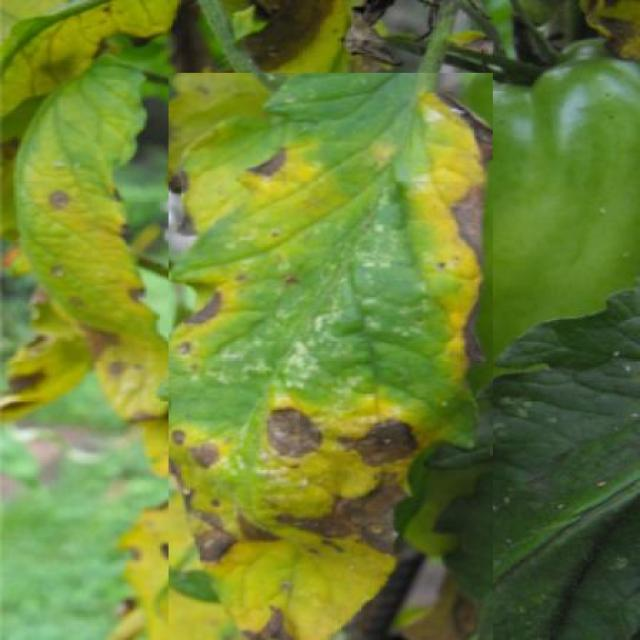Early Blight: (168, 73, 493, 640)
